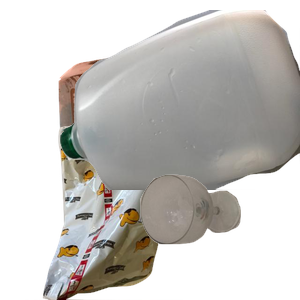glass: (138, 172, 300, 300)
metal: (56, 52, 242, 232)
plastic: (60, 10, 300, 190)
trash: (25, 120, 198, 300)
